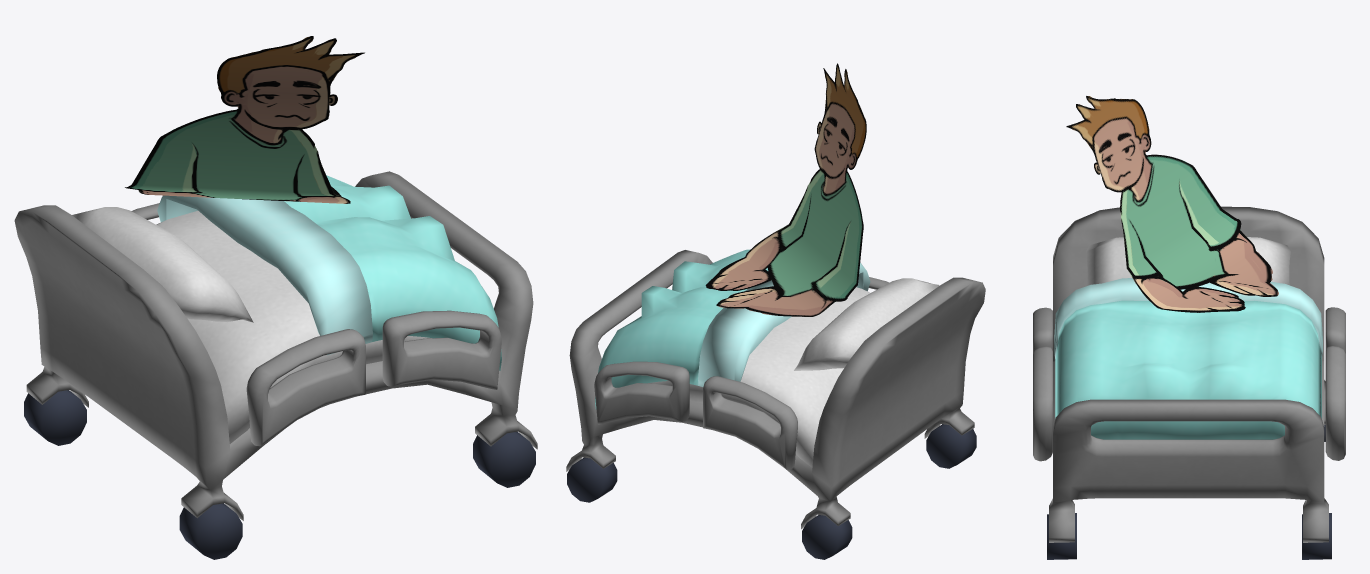
Rendered from Bed_Patient_1_S.glb.
3 views of the same model, side by side, from view 1: azimuth 30°, elevation 25°; view 2: azimuth 150°, elevation 25°; view 3: azimuth 270°, elevation 25° (orthographic). The views are drawn at different scales.
Parts seen in each view (by area): view 1: BedGuardRight1.007, Occupant-HeadAndArms.008; view 2: BedGuardRight1.007, Occupant-HeadAndArms.008; view 3: BedGuardRight1.007, Occupant-HeadAndArms.008.
Part boxes in pixels (<box>): BedGuardRight1.007: <box>14,171,537,559</box>; Occupant-HeadAndArms.008: <box>125,36,364,203</box>; BedGuardRight1.007: <box>566,249,985,559</box>; Occupant-HeadAndArms.008: <box>705,63,866,316</box>; BedGuardRight1.007: <box>1033,206,1345,559</box>; Occupant-HeadAndArms.008: <box>1066,96,1278,312</box>.
Size of the model in its own units: 1.53 by 1.83 by 1.4.
2 materials, 2 textured.
